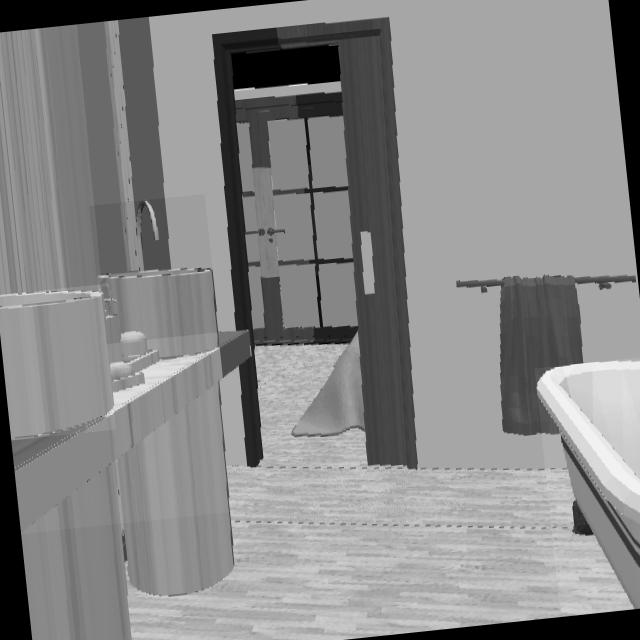bathtube: (536, 362, 640, 608)
shelf: (11, 330, 252, 532)
washbasin: (96, 200, 218, 360), (0, 292, 112, 440)
